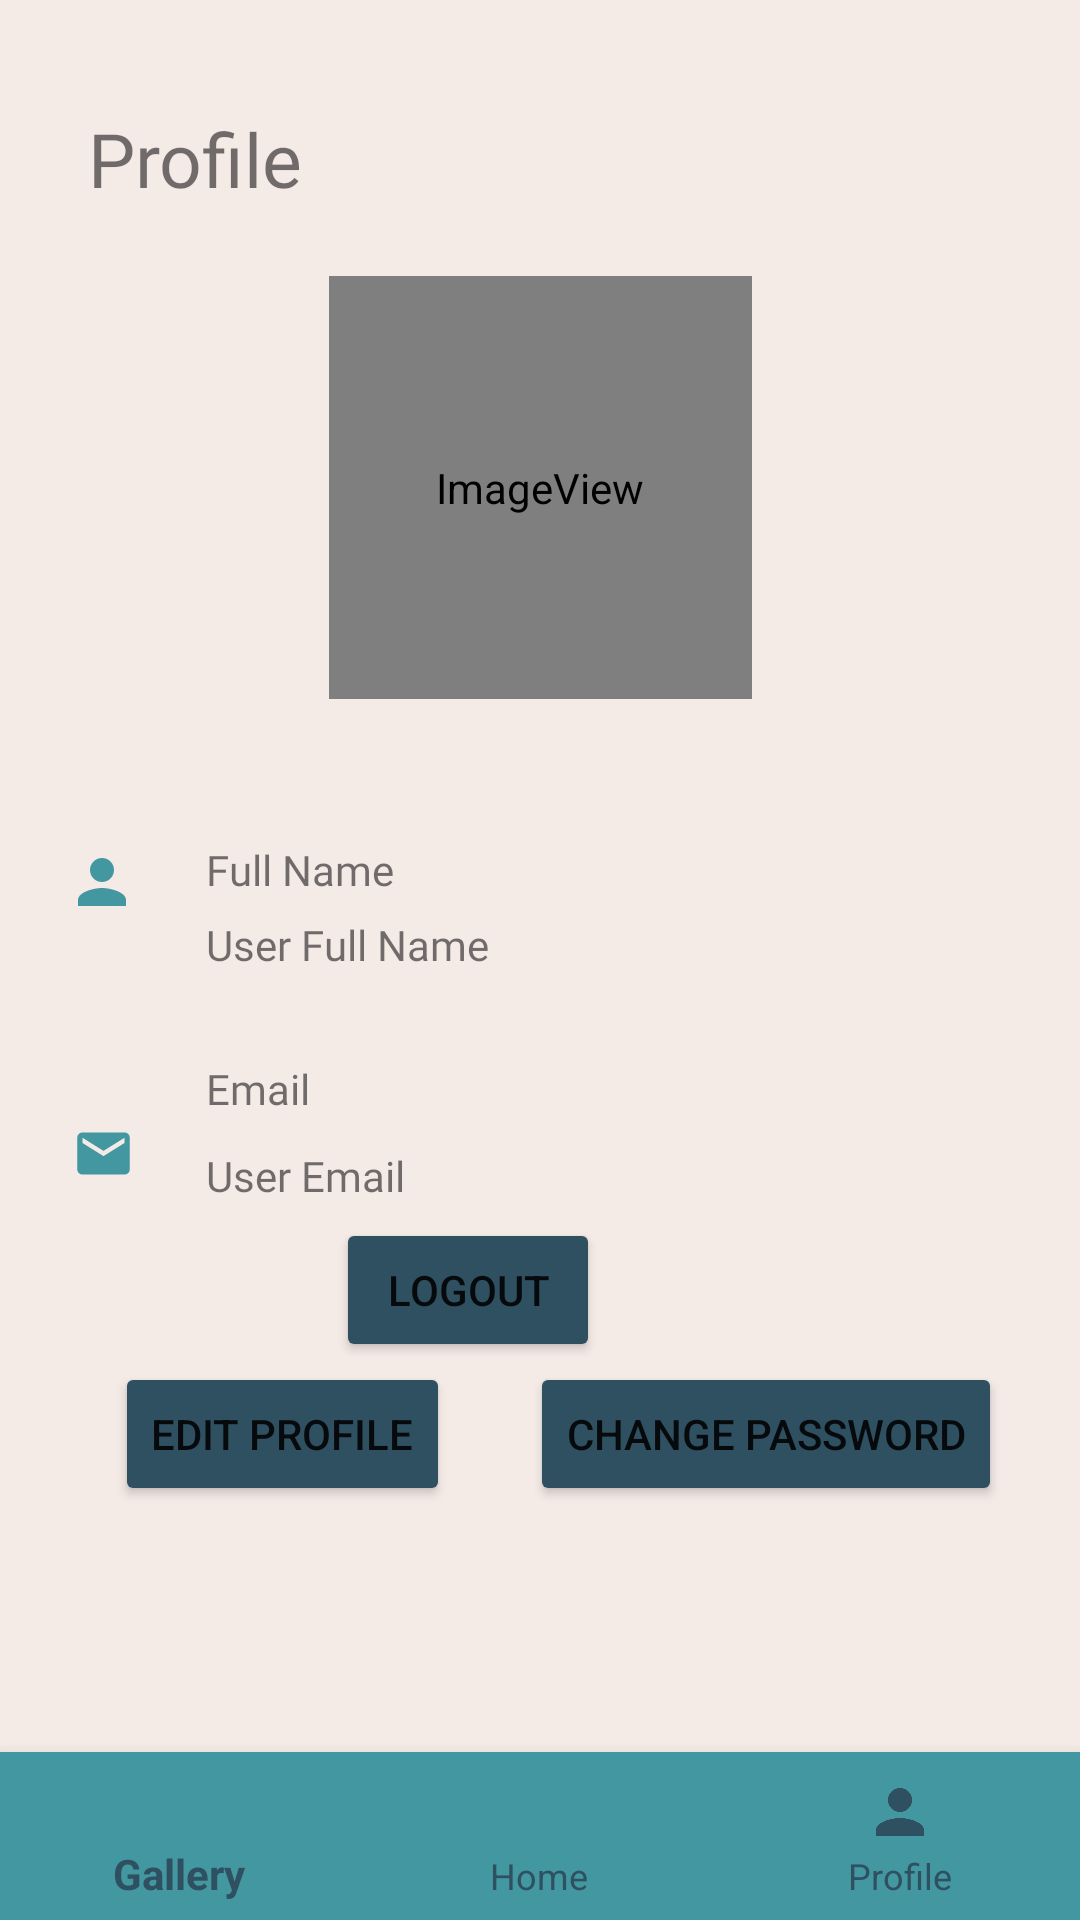

Point at icon controls on the screen. Image size 1080*1920, points as [x,y].
person: [102,882]
